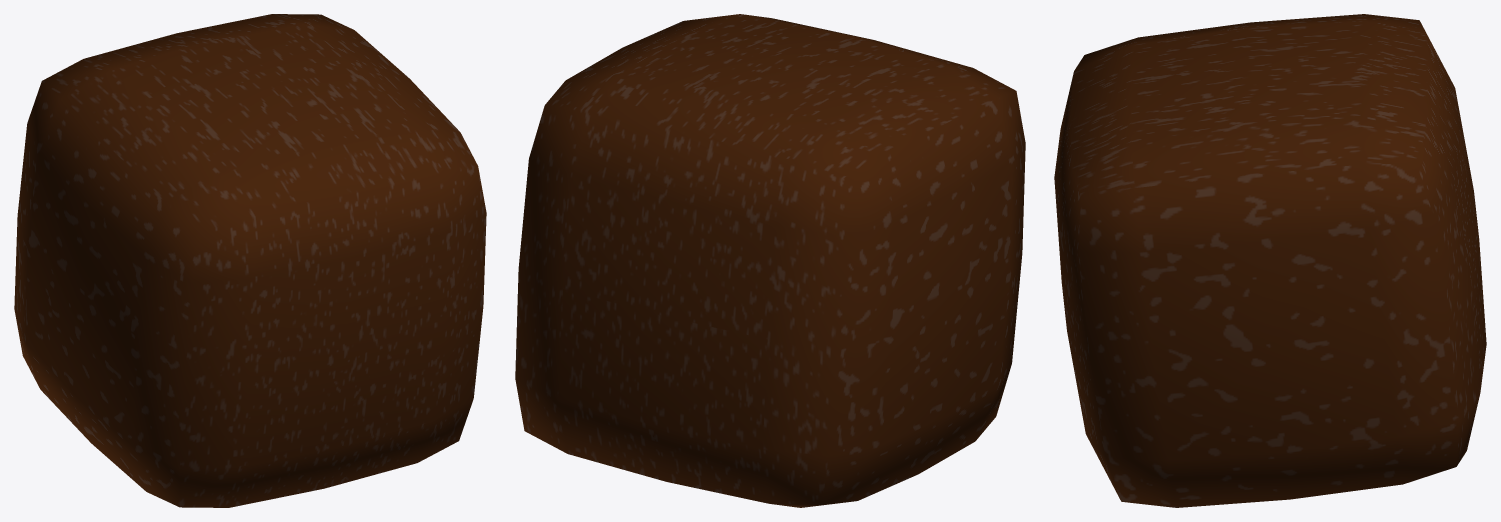
The model's file is DogFood2.fbx.
3 views of the same model, side by side, from view 1: azimuth 30°, elevation 25°; view 2: azimuth 150°, elevation 25°; view 3: azimuth 270°, elevation 25° (orthographic). The views are drawn at different scales.
Visible parts, largest first — view 1: DogFood2; view 2: DogFood2; view 3: DogFood2.
Boxes of the visible parts, box(x1,y1,x2,y2) form: DogFood2: box(14, 14, 486, 507); DogFood2: box(515, 14, 1025, 507); DogFood2: box(1054, 14, 1486, 507).
Bounding box in the file's own units: 1.37 × 1.41 × 1.41.
